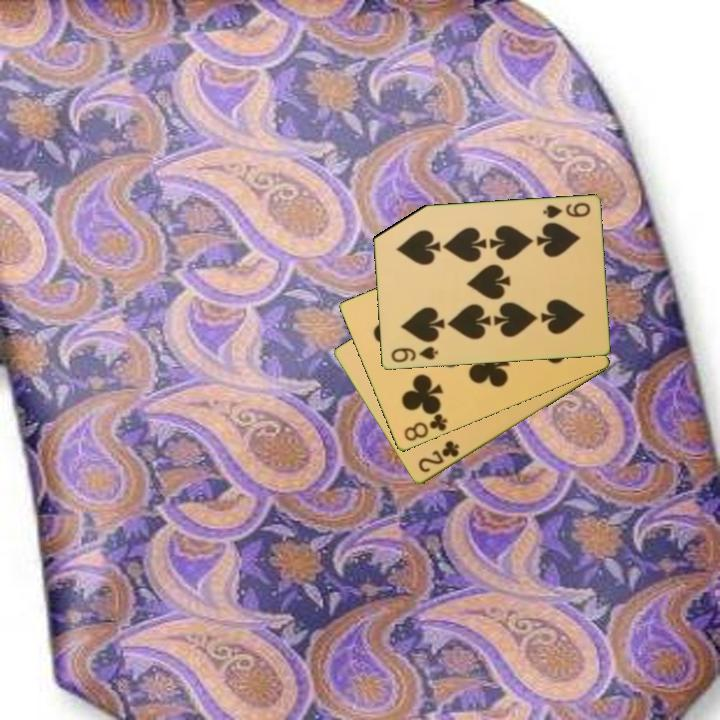2c: (415, 437, 462, 476)
8c: (400, 410, 450, 444)
9s: (539, 199, 593, 222), (388, 343, 441, 366)
